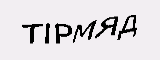І: (42, 22, 53, 46)
Д: (117, 14, 140, 39)
М: (73, 20, 96, 43)
Р: (53, 20, 73, 47)
Т: (18, 21, 42, 46)
Я: (96, 15, 117, 39)
